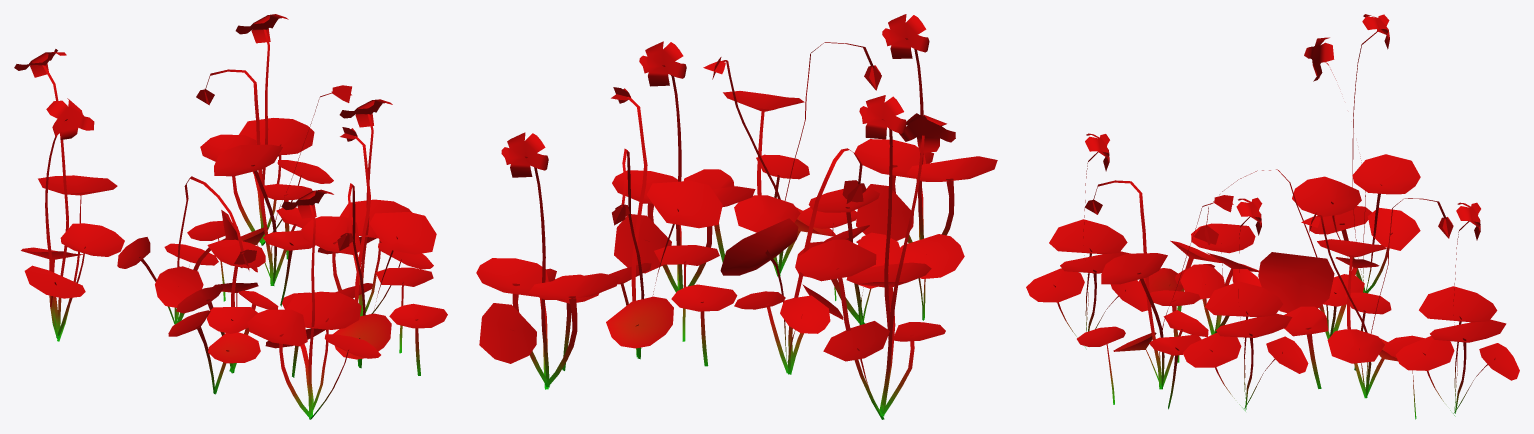
Rendered from Native Violet_LOD3_Var5_ultkcfeja.fbx.
3 views of the same model, side by side, from view 1: azimuth 30°, elevation 25°; view 2: azimuth 150°, elevation 25°; view 3: azimuth 270°, elevation 25° (orthographic). The views are drawn at different scales.
Visible parts, largest first — view 1: _eiyv_Var5_LOD3; view 2: _eiyv_Var5_LOD3; view 3: _eiyv_Var5_LOD3.
Part boxes in pixels (x1,y1,x2,y2): _eiyv_Var5_LOD3: (14, 14, 447, 419); _eiyv_Var5_LOD3: (476, 14, 997, 419); _eiyv_Var5_LOD3: (1026, 14, 1519, 419).
Size of the model in its own units: 30.68 by 24.64 by 39.27.
